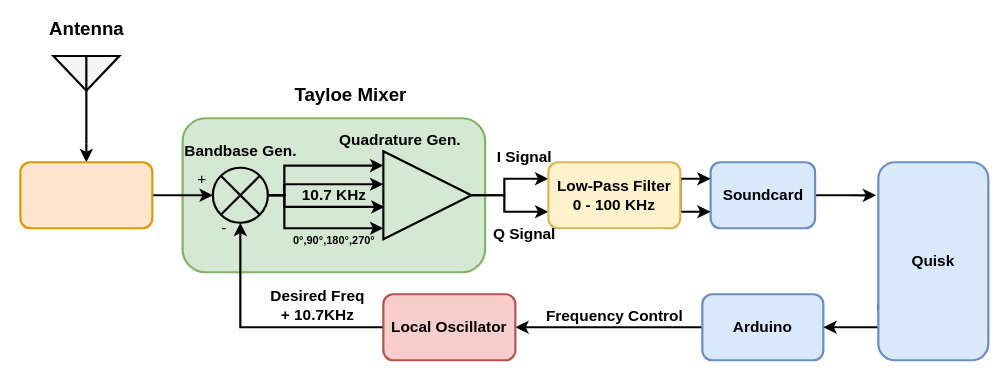
The diagram is 1008 pixels wide and 380 high, and some of its shapes have lost their labels. Each missing label, with the centre of its shape:
"Amplifiers" belongs at [427,195].
"Bandpass Filter 5 - 10 MHz" belongs at [86,195].
